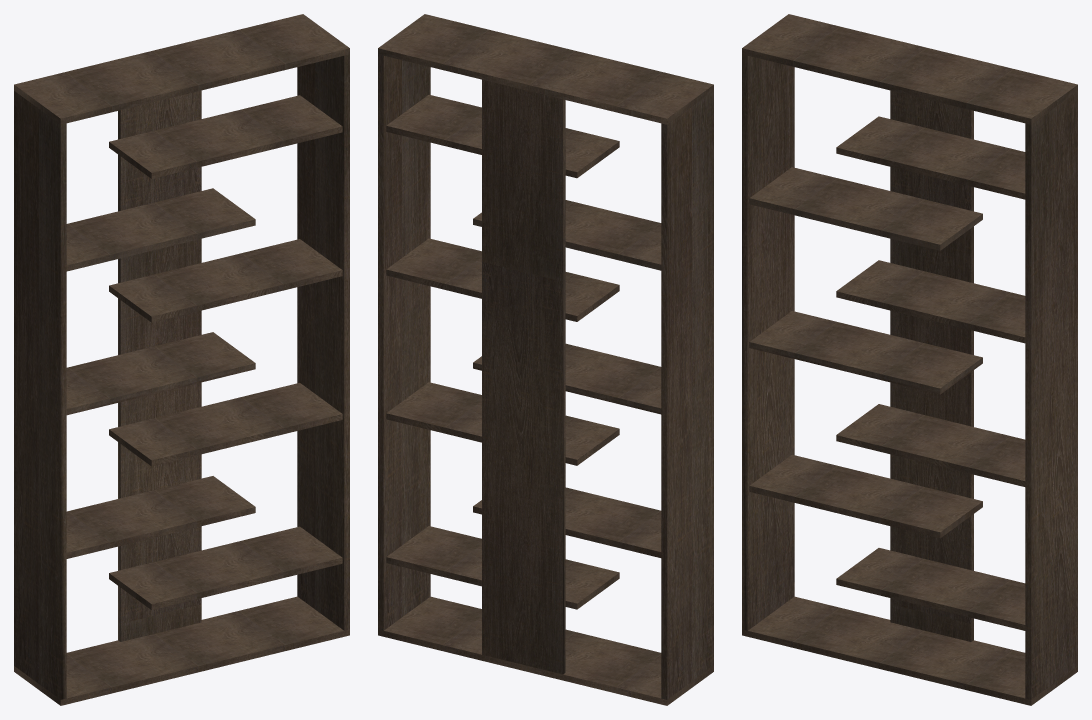
The model's file is Bookshelf.glb.
3 renders of one model, left to right at view 1: azimuth 30°, elevation 25°; view 2: azimuth 150°, elevation 25°; view 3: azimuth 330°, elevation 25°, orthographic.
Visible parts, largest first — view 1: Cap_119, Cap_122, Cap_2, Cap_28, Cap_26, Cap_29, Cap_210, Cap_212, Cap_27, Cap_25, Cap_24, Cap_23 (+12 smaller); view 2: Cap_126, Cap_119, Cap_122, Cap_28, Cap_26, Cap_27, Cap_29, Cap_210, Cap_212, Cap_25, Cap_24, Cap_23 (+12 smaller); view 3: Cap_21, Cap_22, Cap_2, Cap_28, Cap_26, Cap_24, Cap_25, Cap_23, Cap_212, Cap_210, Cap_29, Cap_27 (+12 smaller).
Part boxes in pixels (x1=…): Cap_119: x1=14, y1=91, x2=60, y2=699; Cap_122: x1=297, y1=56, x2=344, y2=630; Cap_2: x1=120, y1=90, x2=201, y2=641; Cap_28: x1=14, y1=14, x2=349, y2=118; Cap_26: x1=66, y1=596, x2=343, y2=698; Cap_29: x1=109, y1=383, x2=341, y2=460; Cap_210: x1=109, y1=239, x2=341, y2=316; Cap_212: x1=109, y1=95, x2=341, y2=172; Cap_27: x1=109, y1=526, x2=341, y2=603; Cap_25: x1=66, y1=188, x2=255, y2=265; Cap_24: x1=66, y1=332, x2=255, y2=408; Cap_23: x1=66, y1=476, x2=255, y2=552; Cap_126: x1=482, y1=79, x2=562, y2=674; Cap_119: x1=667, y1=91, x2=713, y2=699; Cap_122: x1=383, y1=56, x2=430, y2=630; Cap_28: x1=378, y1=14, x2=713, y2=118; Cap_26: x1=384, y1=596, x2=661, y2=698; Cap_27: x1=387, y1=526, x2=619, y2=603; Cap_29: x1=386, y1=382, x2=619, y2=459; Cap_210: x1=386, y1=238, x2=618, y2=315; Cap_212: x1=386, y1=94, x2=619, y2=171; Cap_25: x1=473, y1=200, x2=661, y2=264; Cap_24: x1=473, y1=343, x2=661, y2=408; Cap_23: x1=473, y1=487, x2=661, y2=551; Cap_21: x1=1031, y1=91, x2=1077, y2=699; Cap_22: x1=747, y1=56, x2=794, y2=630; Cap_2: x1=890, y1=90, x2=971, y2=641; Cap_28: x1=742, y1=14, x2=1077, y2=118; Cap_26: x1=748, y1=596, x2=1025, y2=698; Cap_24: x1=750, y1=311, x2=982, y2=388; Cap_25: x1=750, y1=167, x2=982, y2=244; Cap_23: x1=750, y1=454, x2=982, y2=532; Cap_212: x1=836, y1=116, x2=1025, y2=193; Cap_210: x1=836, y1=260, x2=1025, y2=337; Cap_29: x1=837, y1=404, x2=1025, y2=480; Cap_27: x1=836, y1=548, x2=1025, y2=624.
Size of the model in its own units: 100 by 194 by 28.
1 material, 1 textured.
